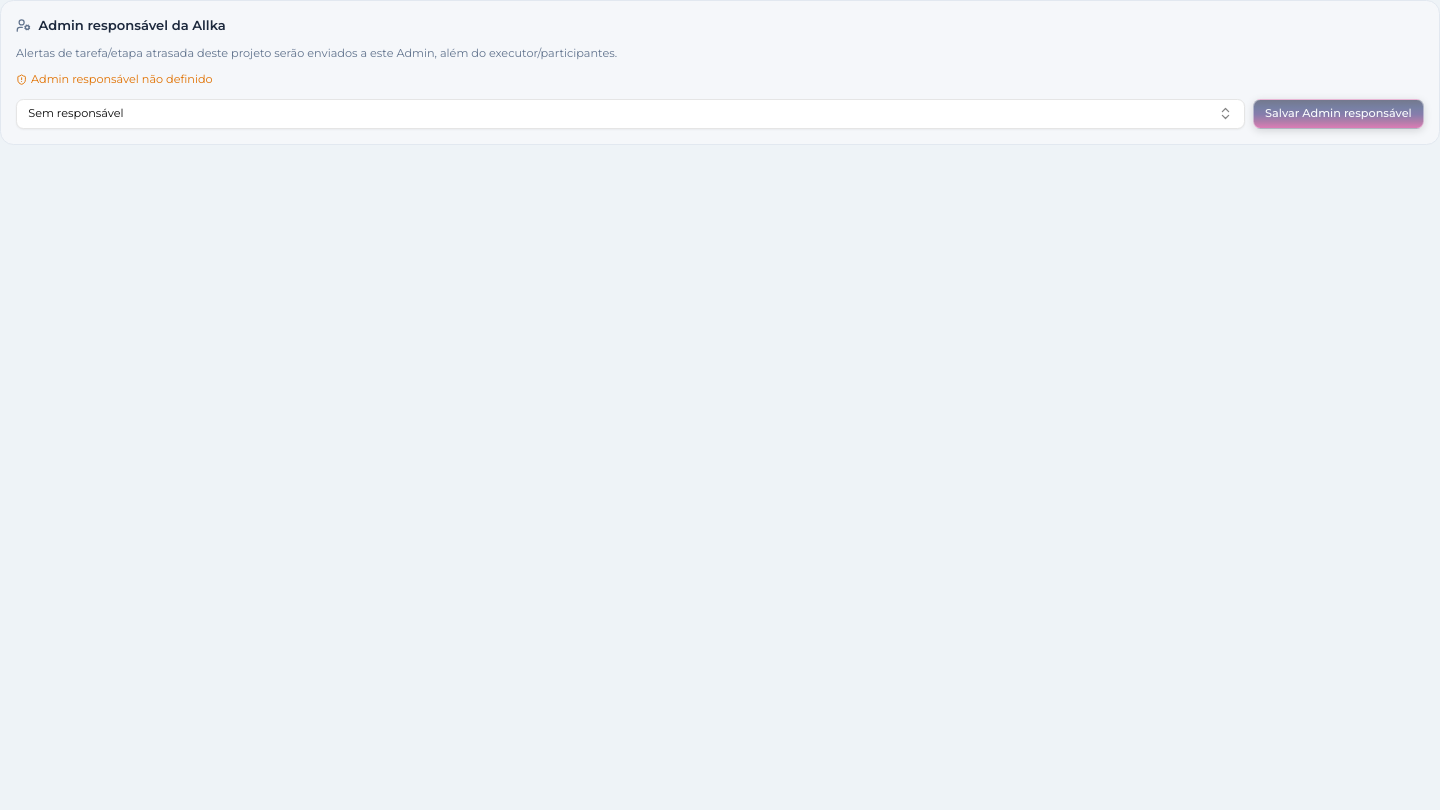
Test case: ProjectAdminResponsibleSection › 13. seletor lista somente Admins ativos (vindos do endpoint admin-only)
Click the dropdown "Sem responsável": (76, 113) [16,98,1245,128]
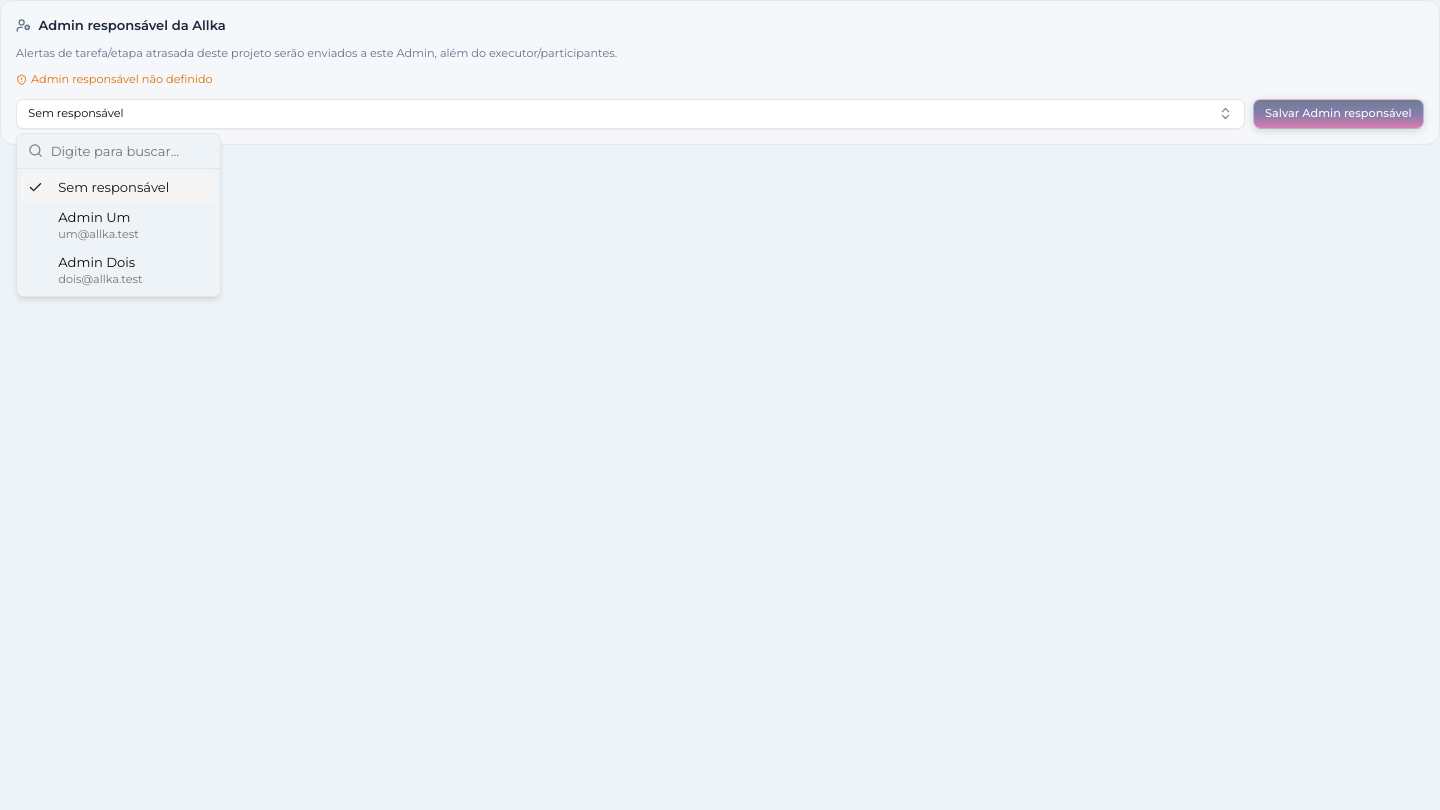
Check: the text "Admin Um" is shown, box [58,208,139,227]
Check: the text "Admin Dois" is shown, box [58,253,143,272]
